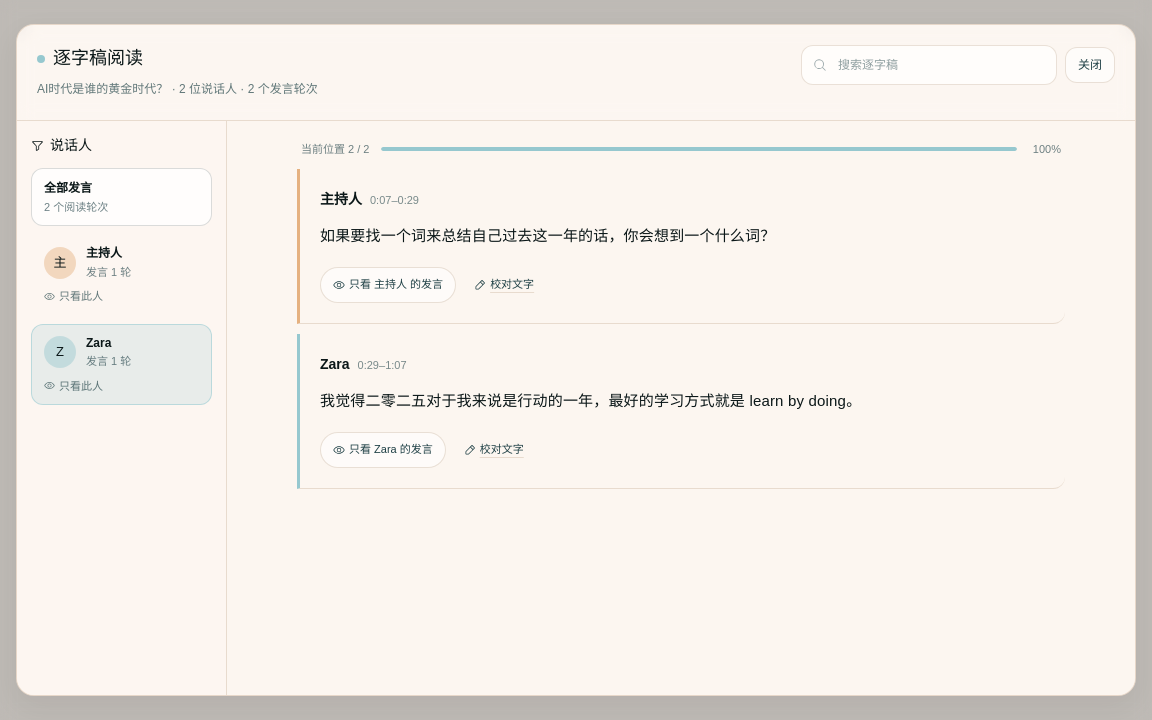
Test: TranscriptConversationModal › 说话人筛选与逐字稿搜索都真实生效
This screenshot has width=1152, height=720.
Click the button "Z Zara 发言 1 轮 只看此人": (122, 364) [31,324,212,405]
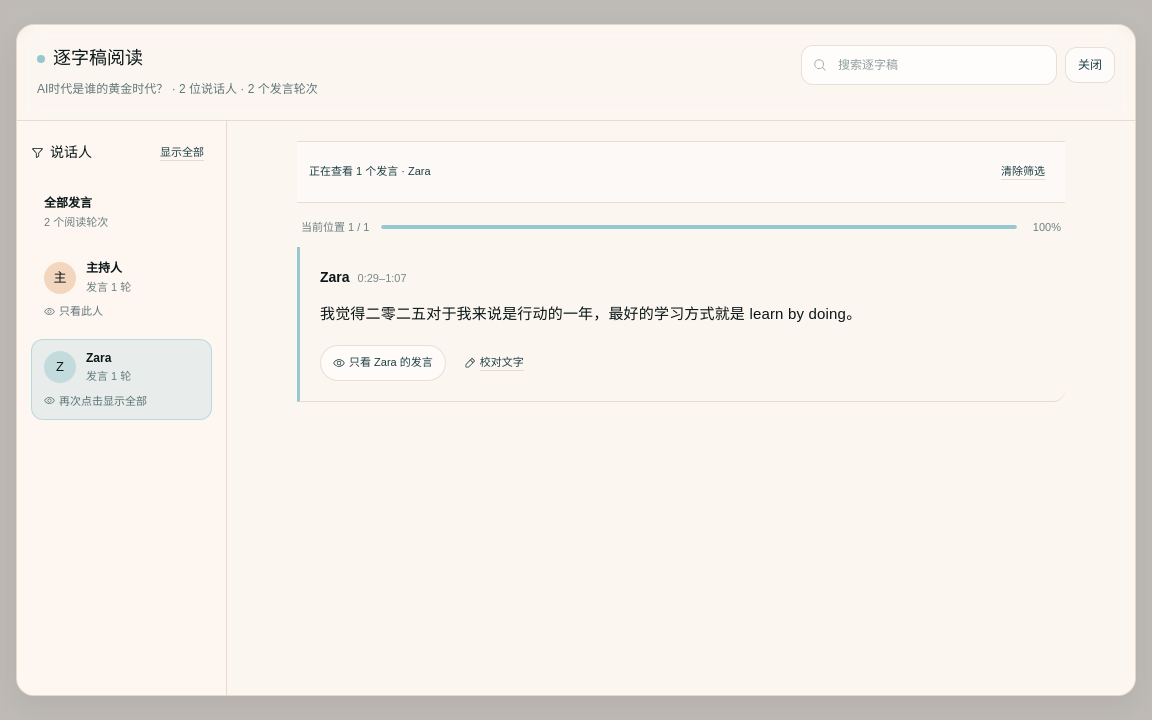
Expected: the text "我觉得二零二五对于我来说是行动的一年，最好的学习方式就是 learn by doing。" is shown, [320,305,861,322]
Expected: the text "如果要找一个词来总结自己过去这一年的话，你会想到一个什么词？" is gone
In the search field labelled "搜索逐字稿": (929, 65) [801,45,1057,85], type "不存在的关键词"
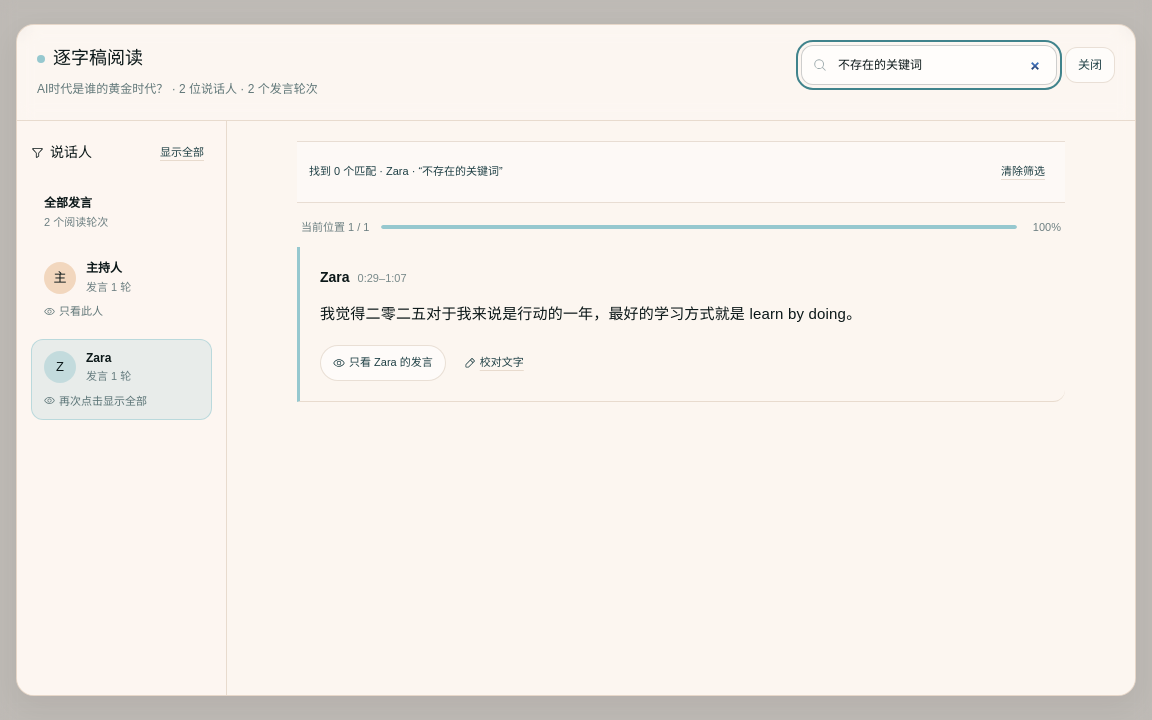
Expected: the text "我觉得二零二五对于我来说是行动的一年，最好的学习方式就是 learn by doing。" is shown, [320,305,861,322]
Expected: the text "找到 0 个匹配 · Zara · “不存在的关键词”" is shown, [309,163,503,180]
